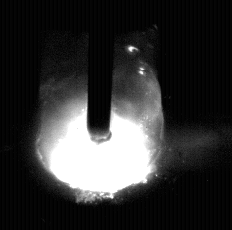arame: (88, 0, 112, 143)
poca: (35, 0, 165, 230)
